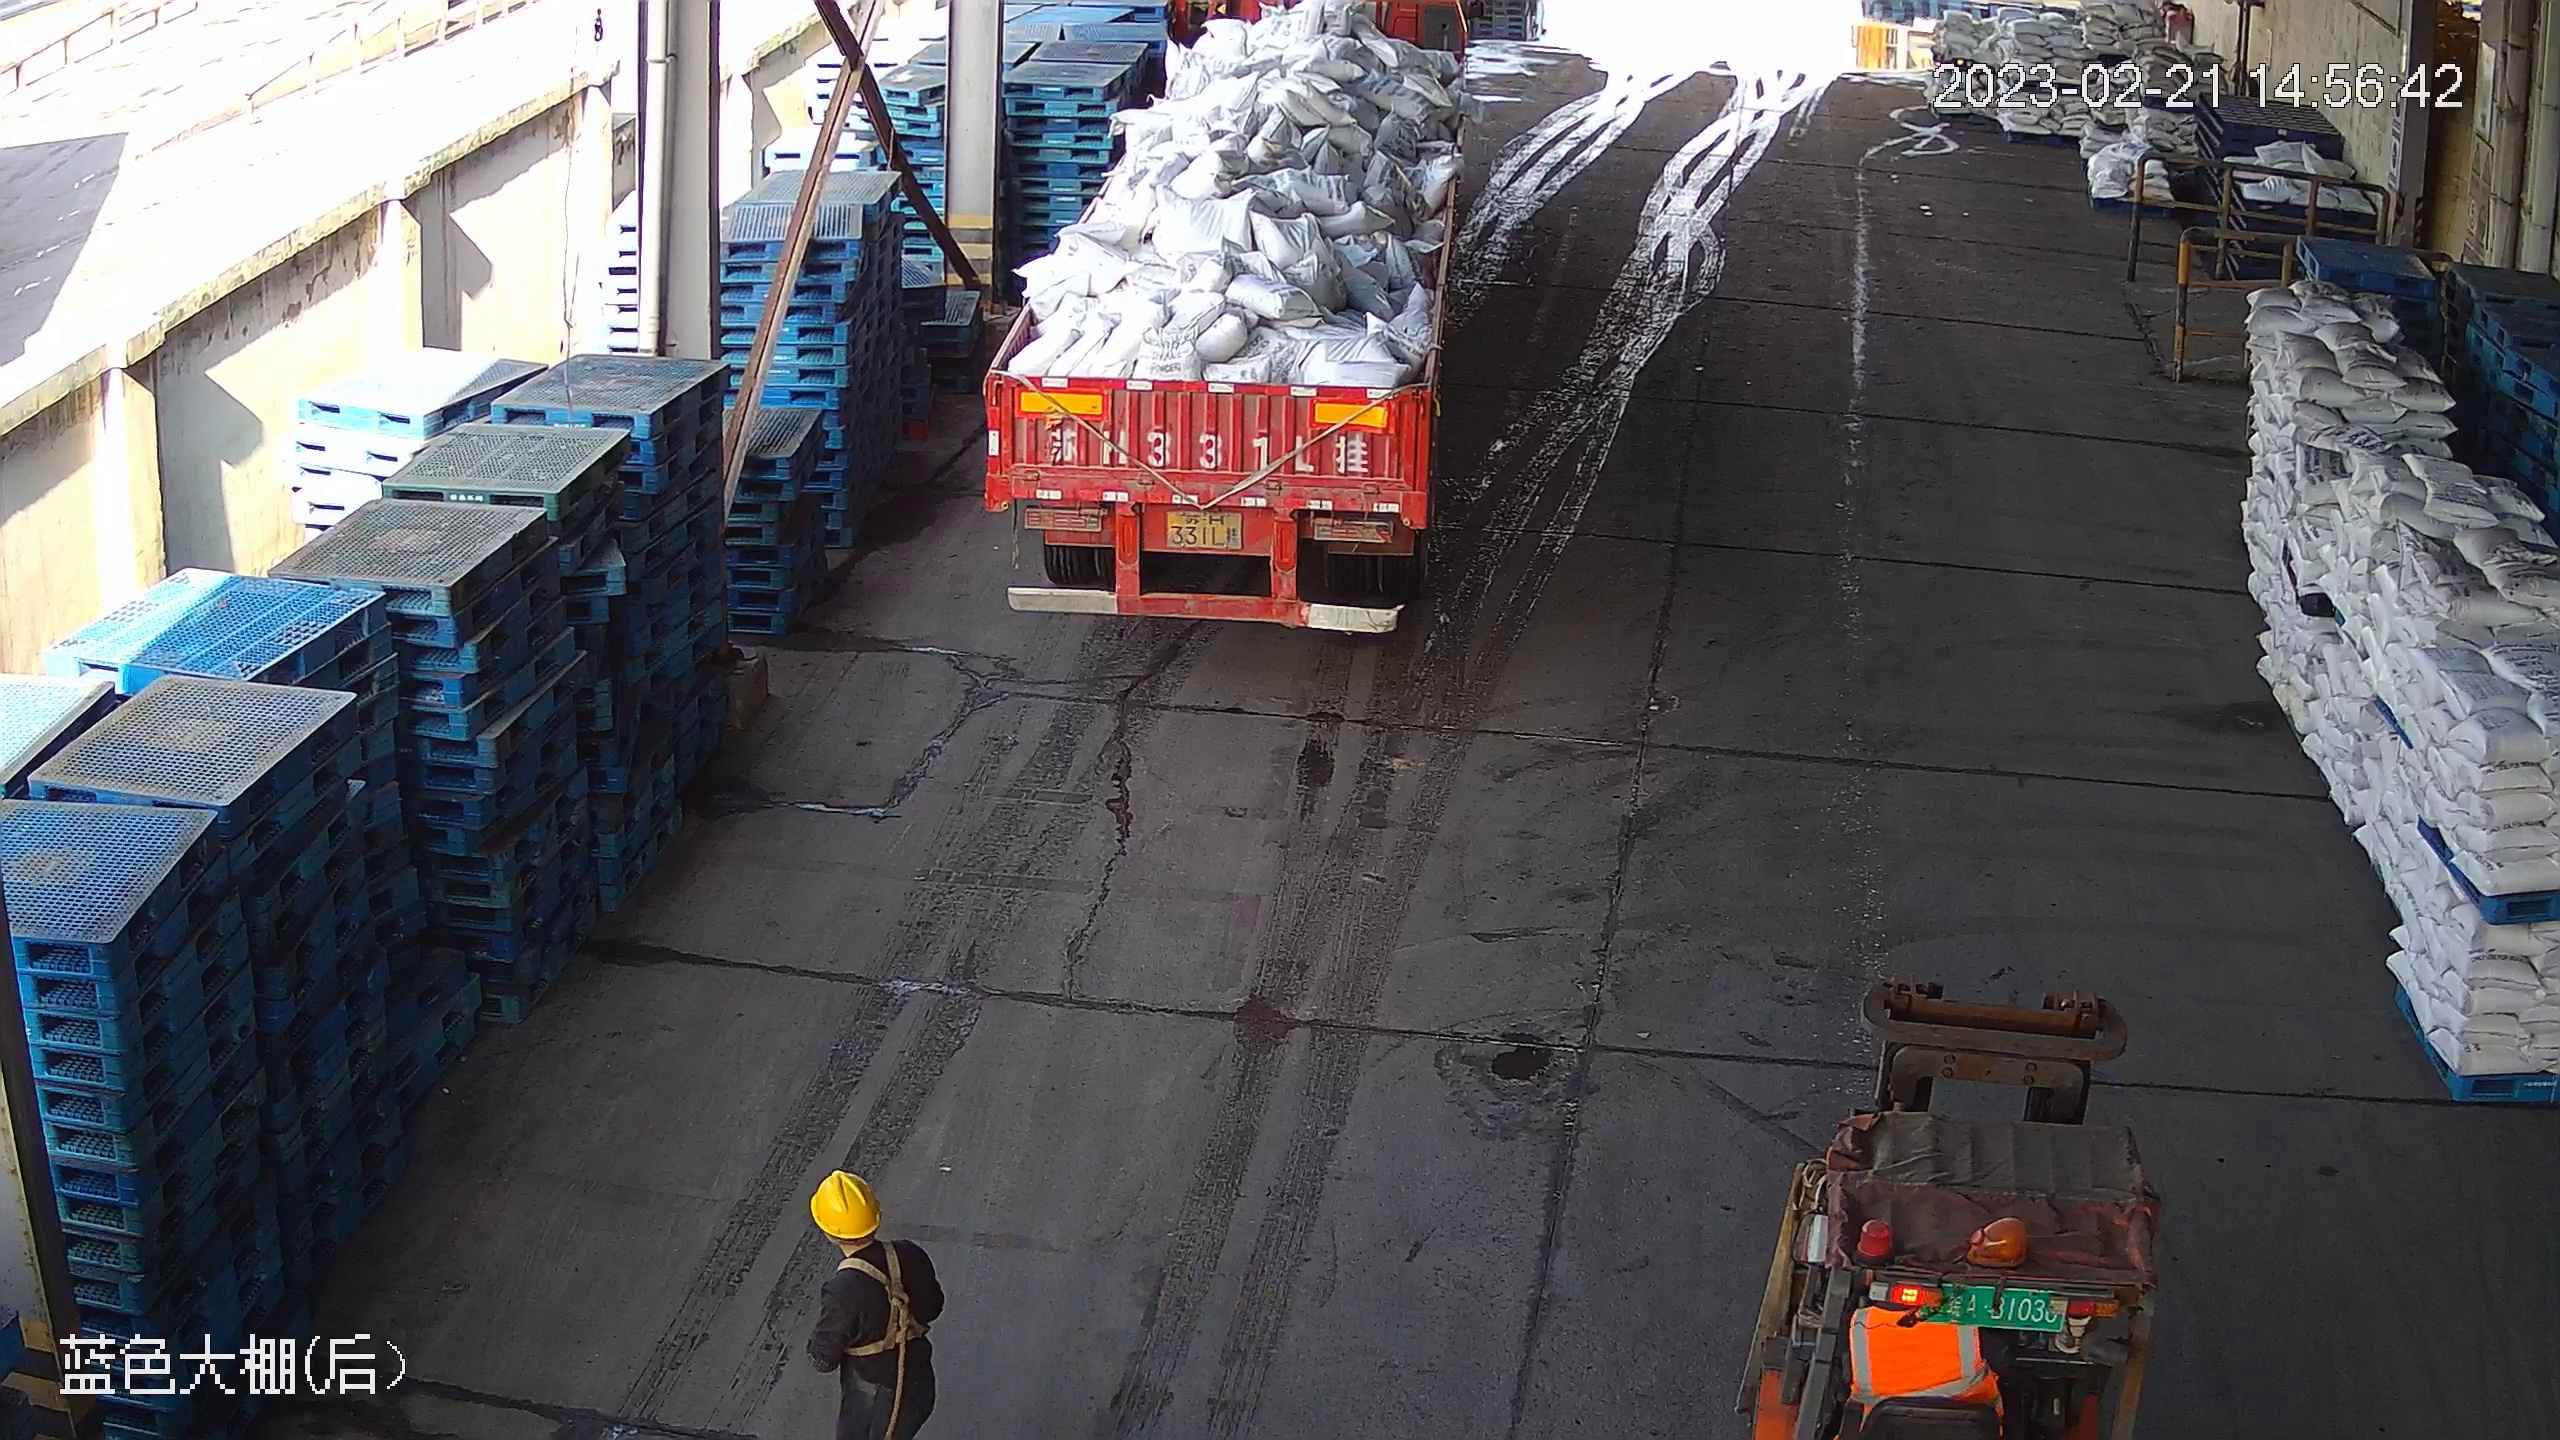head: (796, 1165, 944, 1291)
helmet: (805, 1168, 882, 1237)
people: (801, 1162, 954, 1440)
truck: (972, 1, 1478, 639)
